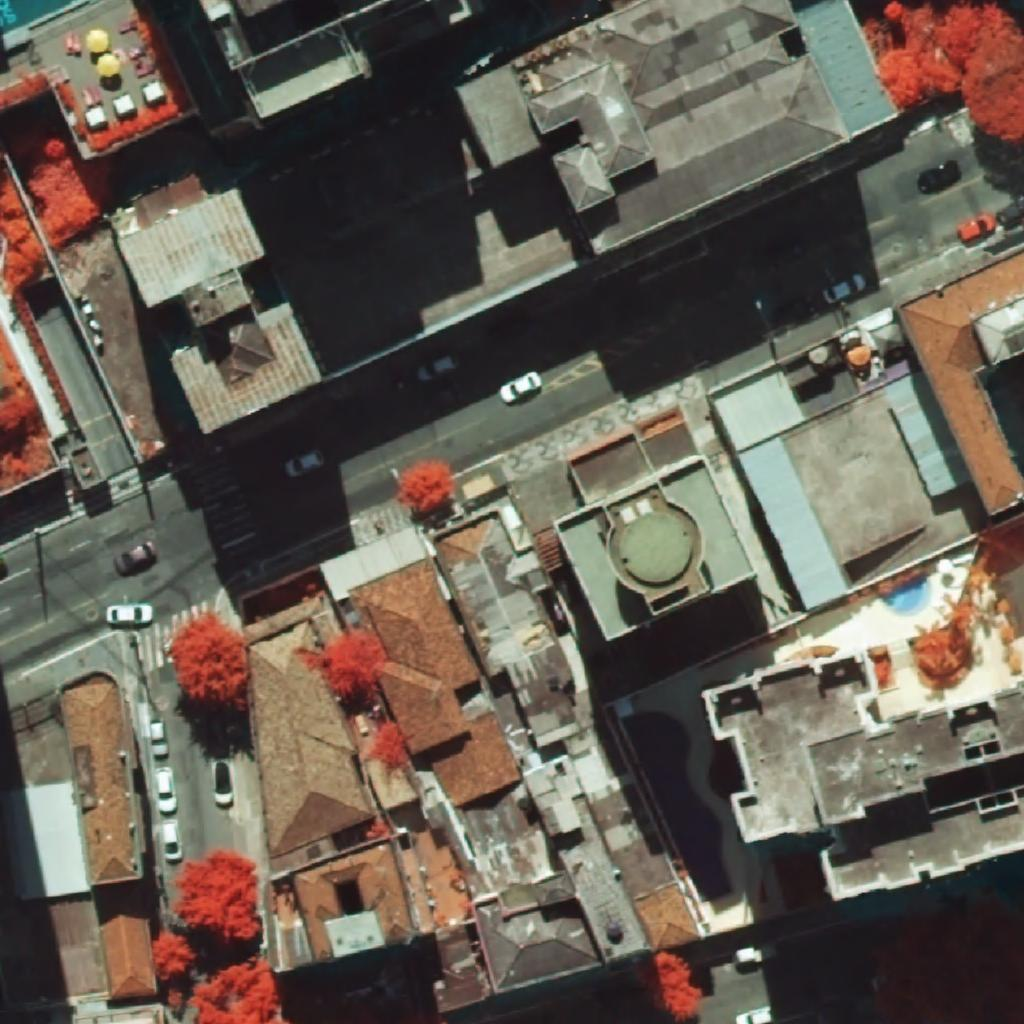pool: (882, 578, 928, 613)
